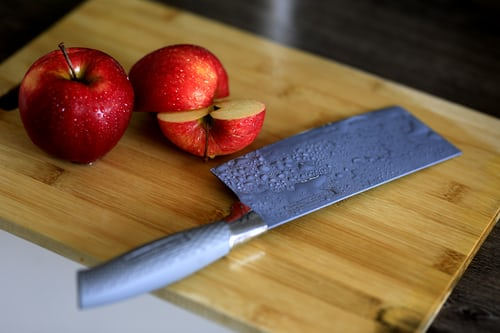apple: (129, 43, 269, 162), (21, 43, 136, 168)
